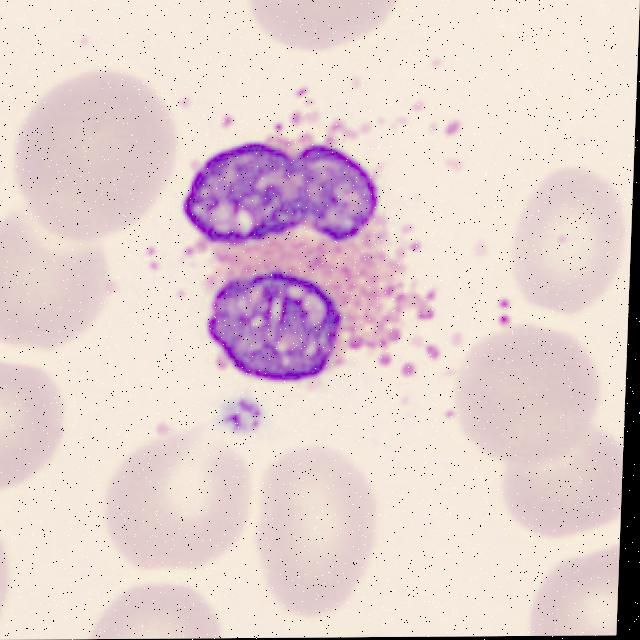eosinophil: (164, 116, 437, 402)
rbc: (6, 72, 181, 247), (251, 440, 388, 618), (454, 321, 609, 466), (94, 434, 252, 574), (0, 199, 120, 360), (510, 172, 625, 315), (497, 416, 624, 539), (65, 576, 241, 639), (0, 349, 72, 492), (521, 547, 619, 636), (237, 0, 410, 46), (0, 505, 20, 640), (311, 628, 420, 638)
